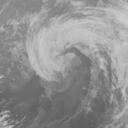cyclone: (26, 6, 126, 83)
